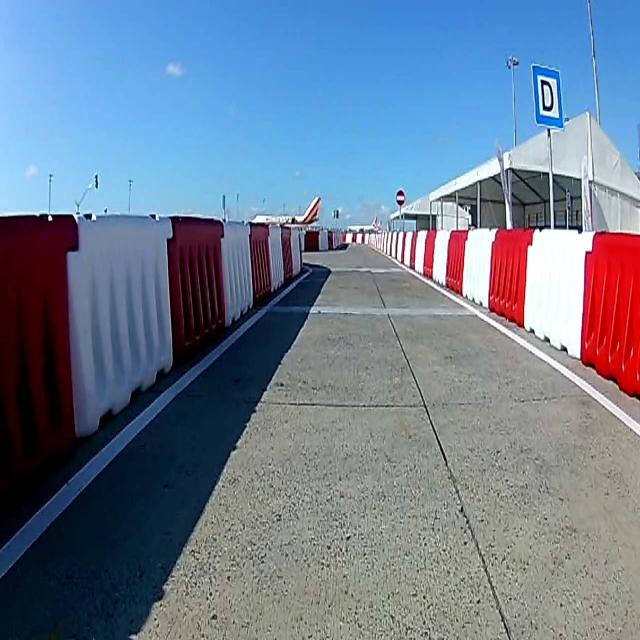durak: (530, 64, 564, 130)
girisyok: (396, 188, 406, 207)
